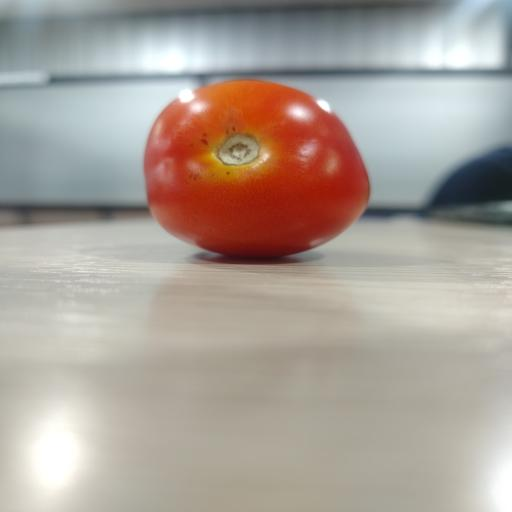ripe: (144, 81, 369, 257)
